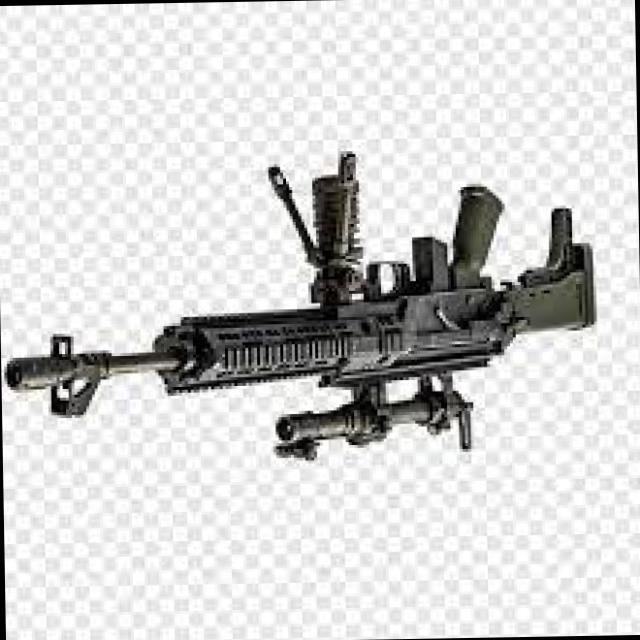Gun: (0, 178, 640, 477)
